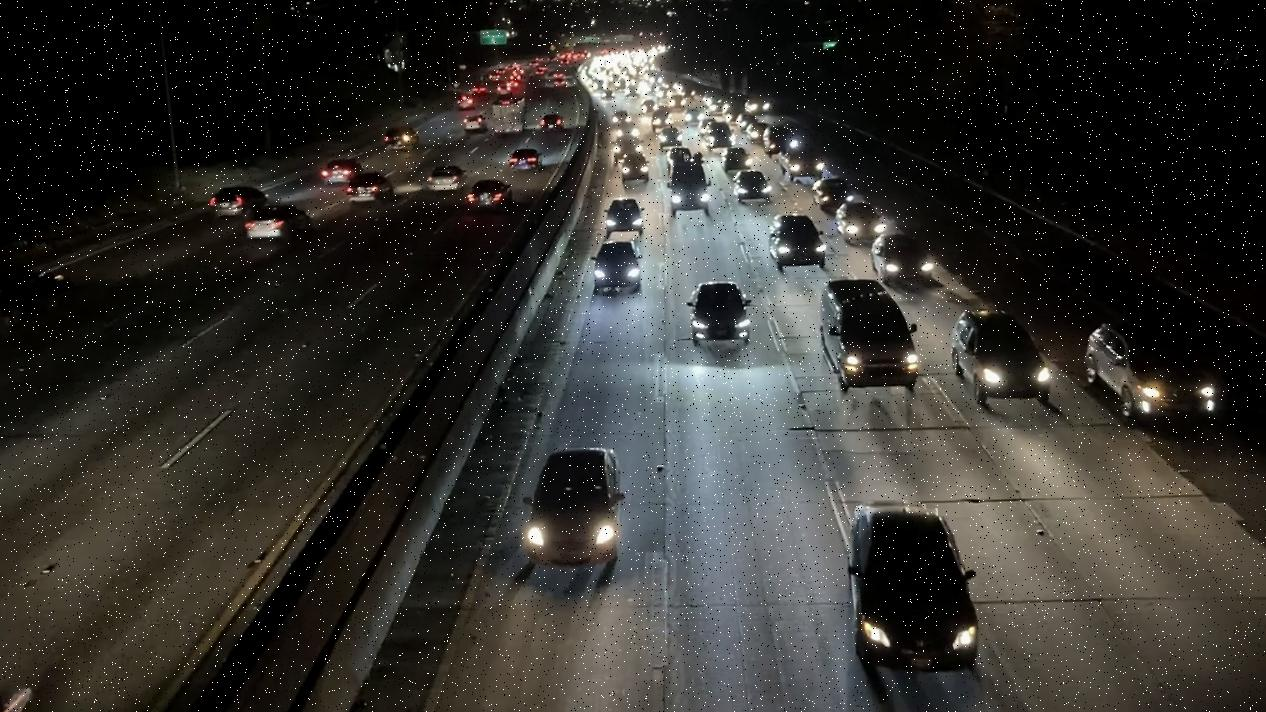car: (843, 499, 986, 673), (1073, 320, 1222, 417), (517, 447, 627, 576), (814, 279, 921, 394), (951, 309, 1049, 404), (679, 280, 762, 344), (588, 238, 646, 295), (765, 212, 825, 267), (873, 234, 933, 281), (245, 202, 306, 243), (666, 163, 712, 215), (208, 185, 266, 216), (603, 197, 646, 235), (467, 177, 512, 208), (346, 173, 393, 201), (734, 170, 770, 205), (323, 158, 364, 186), (386, 125, 419, 153), (427, 167, 463, 192), (509, 148, 545, 171)
